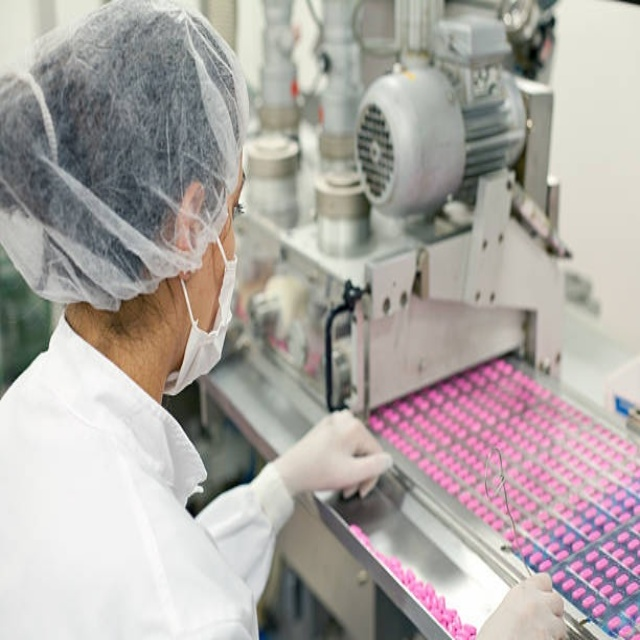Guantes: (268, 408, 395, 510), (477, 569, 568, 640)
Mascara: (161, 224, 239, 396)
Sin_gafas: (208, 166, 249, 249)
